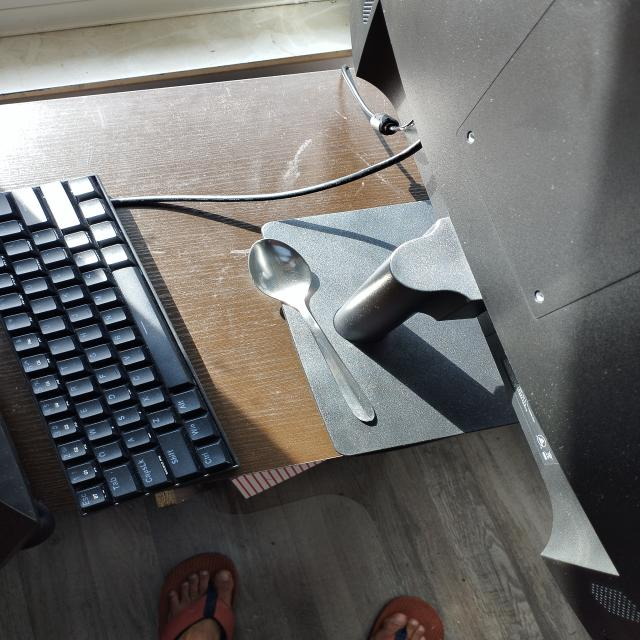Spoon: (234, 231, 393, 436)
